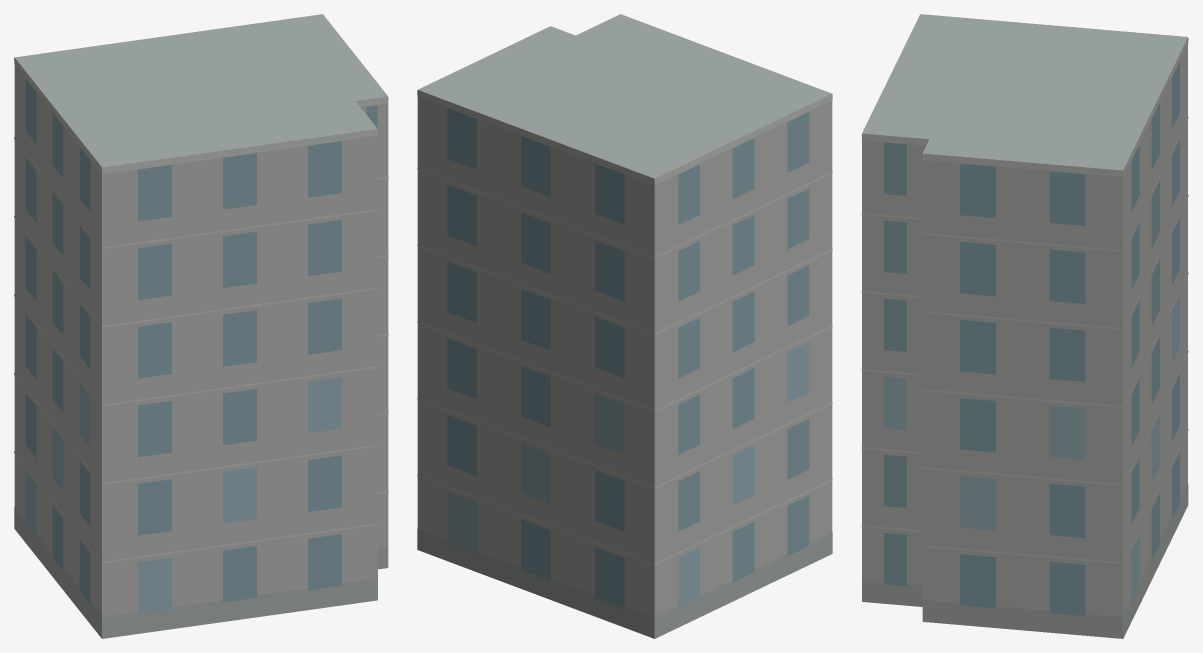
Rendered from survey-upis-32706175.glb.
The picture shows the model from 3 angles, left to right: view 1: azimuth 30°, elevation 25°; view 2: azimuth 150°, elevation 25°; view 3: azimuth 270°, elevation 25°; orthographic projection. The views are drawn at different scales.
Visible parts, largest first — view 1: survey-upis-32706175.tmp; view 2: survey-upis-32706175.tmp; view 3: survey-upis-32706175.tmp.
Boxes of the visible parts, x1=… form: survey-upis-32706175.tmp: x1=14, y1=14, x2=388, y2=638; survey-upis-32706175.tmp: x1=417, y1=14, x2=832, y2=638; survey-upis-32706175.tmp: x1=861, y1=14, x2=1188, y2=638.
Bounding box in the file's own units: 12.14 × 16.9 × 10.7.
